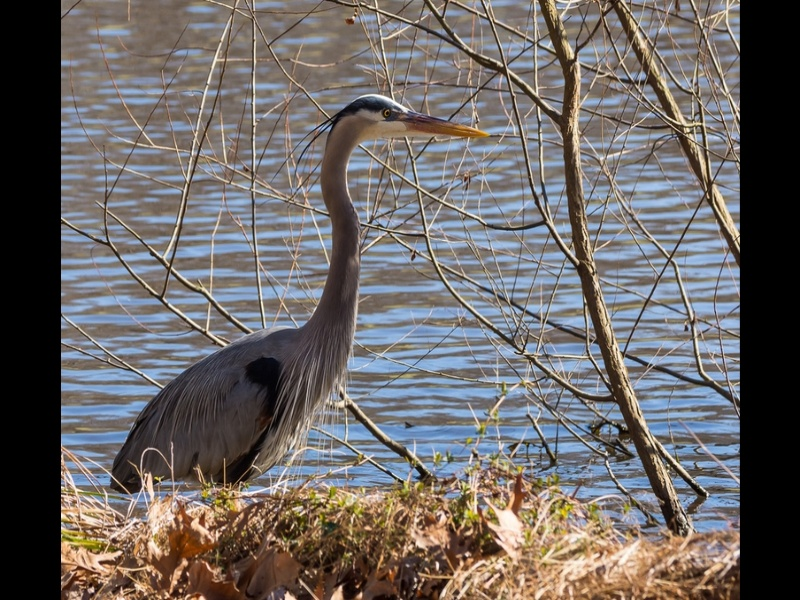heron: (104, 89, 490, 533)
